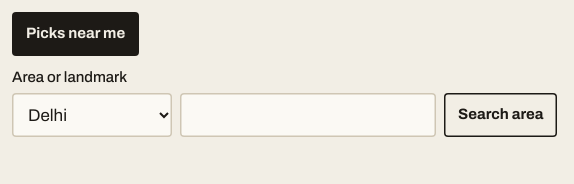
Test: HomeNearMe › reports a failed index download
Click the button "Picks near me".
click(76, 34)  # box [12,12,139,56]
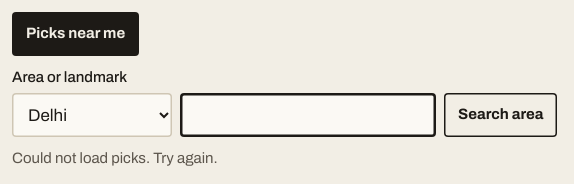
Expected: the text "Could not load picks. Try again." is shown, [12,151,218,167]
